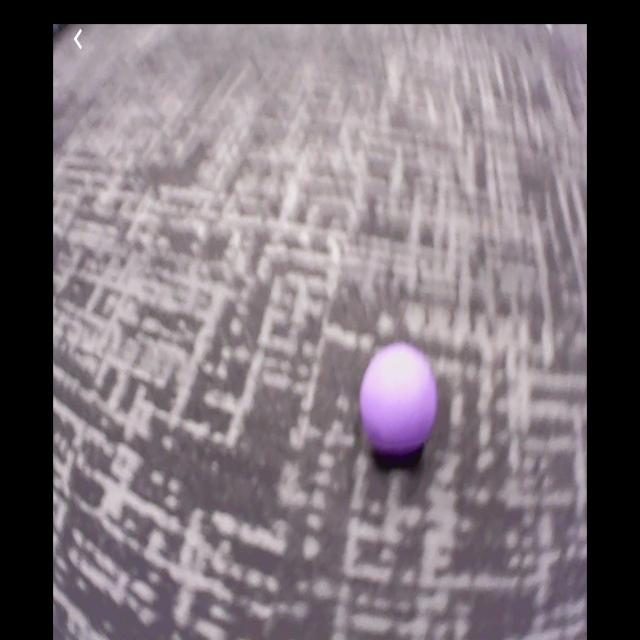ball: (360, 347, 437, 454)
